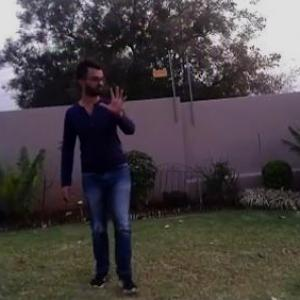follow_hand: (99, 82, 130, 117)
